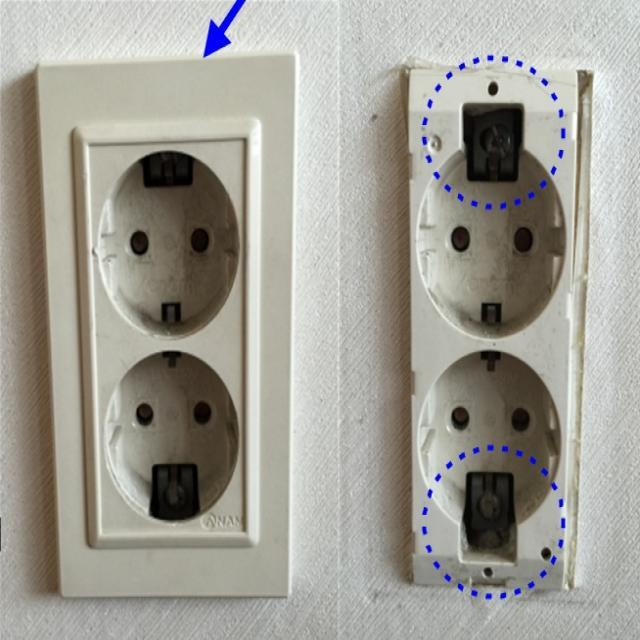typeb: (36, 46, 320, 622), (368, 14, 604, 625)
